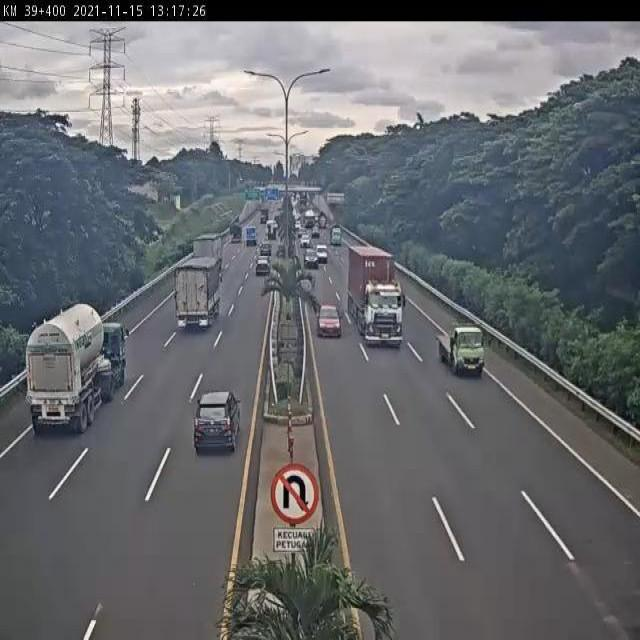car: (193, 391, 240, 453), (316, 306, 341, 338), (254, 255, 272, 277)
truck-m-: (174, 258, 222, 338), (194, 233, 226, 275)
truck-s-: (436, 325, 486, 375)
truck-xl-: (27, 301, 127, 431), (346, 244, 405, 347)
